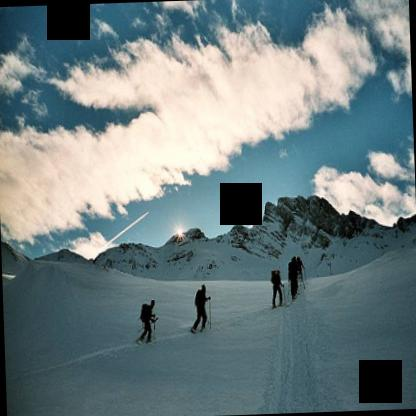backpack: (138, 303, 149, 326), (271, 270, 280, 285), (195, 288, 202, 305), (289, 263, 296, 280), (296, 261, 303, 270)
